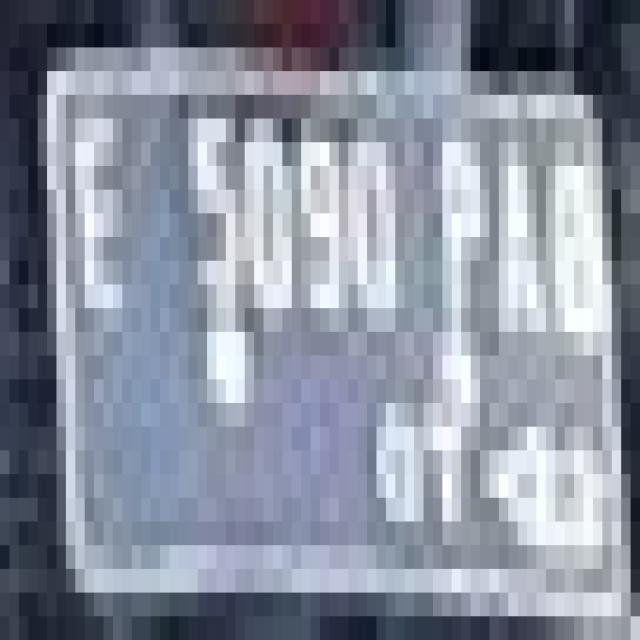plate: (38, 24, 630, 592)
